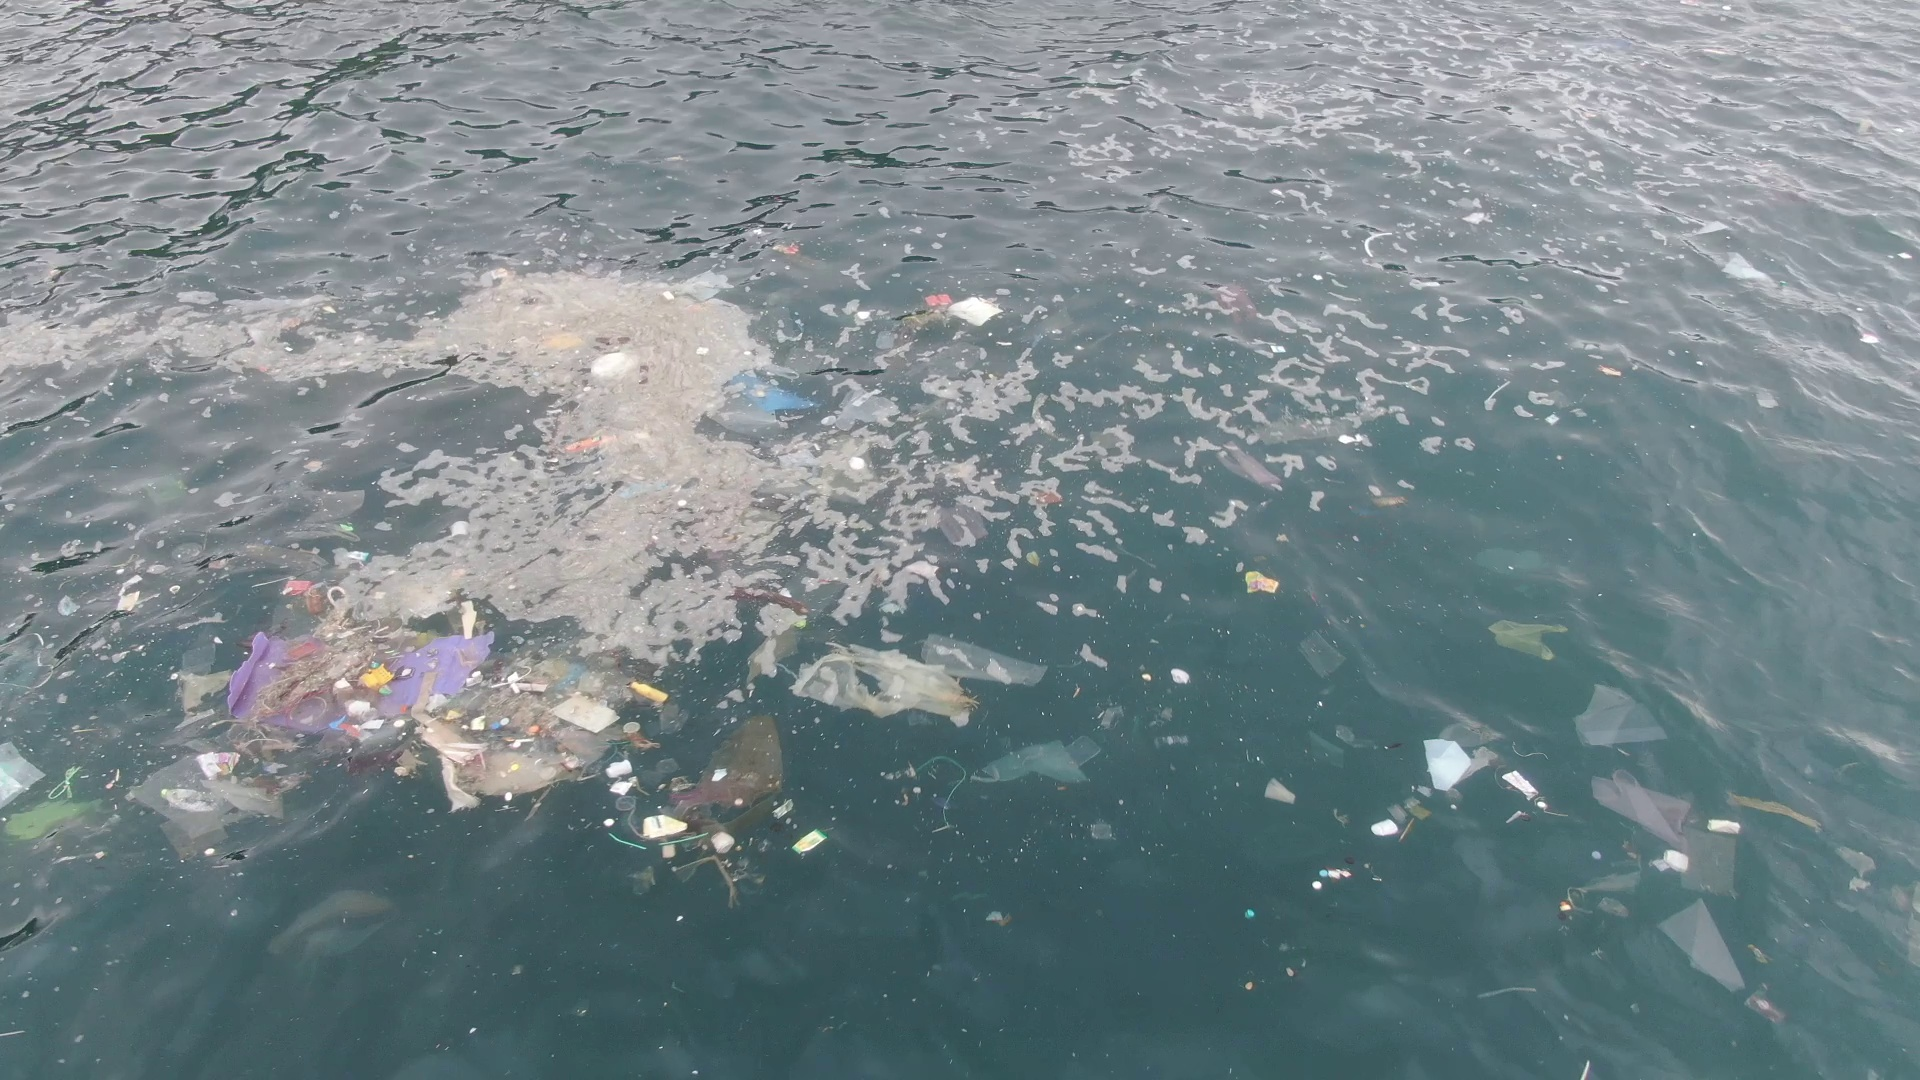garbage: (170, 582, 829, 909), (1563, 683, 1750, 985), (504, 276, 823, 448), (802, 636, 1098, 789), (1371, 727, 1564, 845), (3, 736, 105, 856), (895, 293, 1000, 347), (1491, 617, 1571, 663), (1311, 865, 1353, 893), (1241, 570, 1278, 597)
